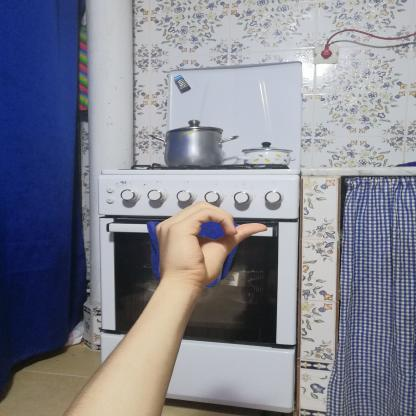WAW: (142, 192, 283, 297)
